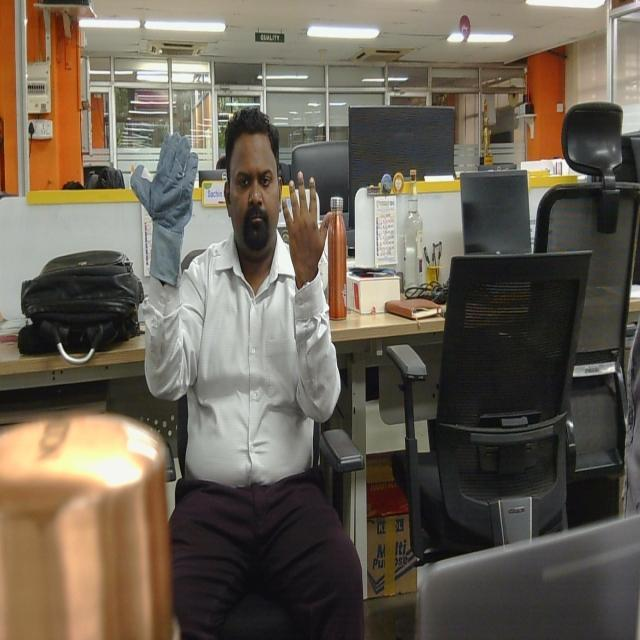Gloves-Detection: (129, 124, 198, 287)
